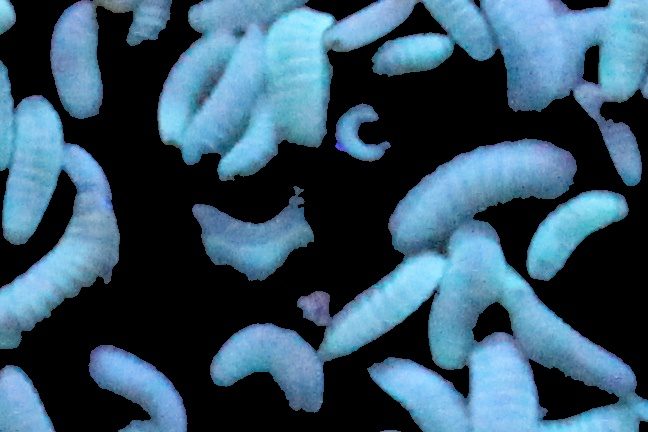larvae: (383, 132, 581, 255), (1, 150, 129, 327), (503, 268, 643, 394), (177, 190, 314, 295), (316, 245, 437, 360), (521, 176, 639, 293), (145, 13, 242, 152), (462, 1, 575, 113), (203, 319, 330, 417), (258, 4, 337, 160), (1, 90, 70, 245), (427, 229, 498, 361), (47, 1, 114, 134), (90, 337, 180, 432), (198, 29, 264, 158), (372, 355, 478, 432), (472, 328, 539, 432), (217, 108, 289, 181), (598, 4, 648, 109), (422, 1, 500, 60), (335, 95, 390, 168), (327, 1, 416, 43), (367, 31, 455, 72)
